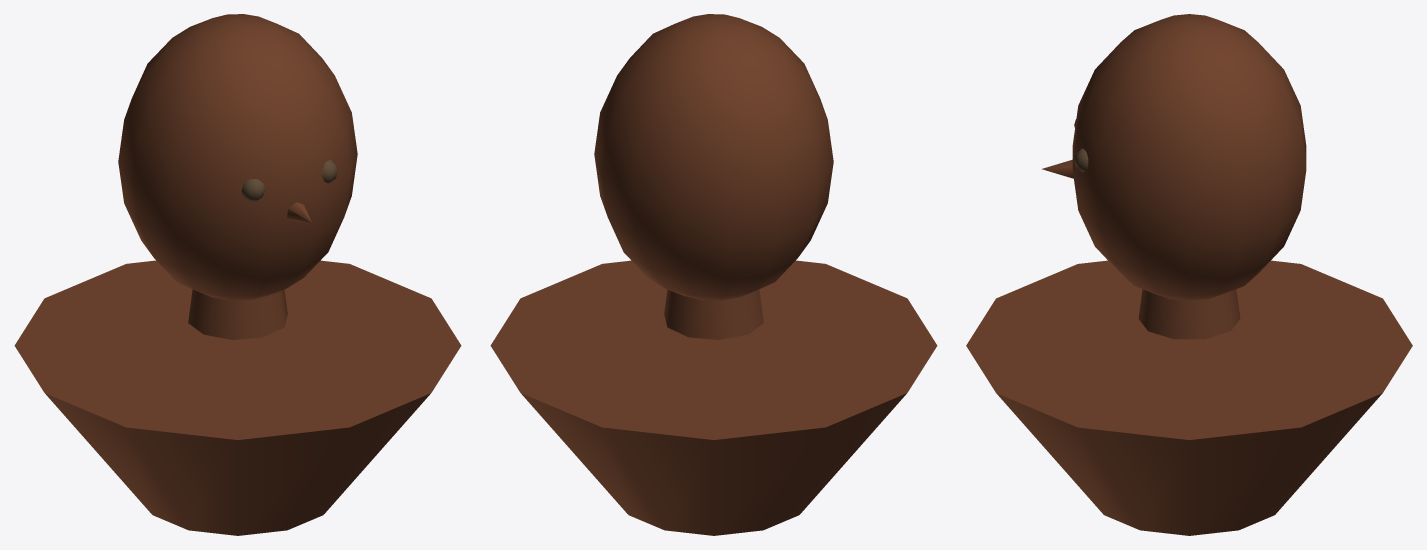
The model's file is portrait08m_001.glb.
3 renders of one model, left to right at view 1: azimuth 30°, elevation 25°; view 2: azimuth 150°, elevation 25°; view 3: azimuth 270°, elevation 25°, orthographic.
Bounding box in the file's own units: 1.84 × 2.14 × 1.84.
